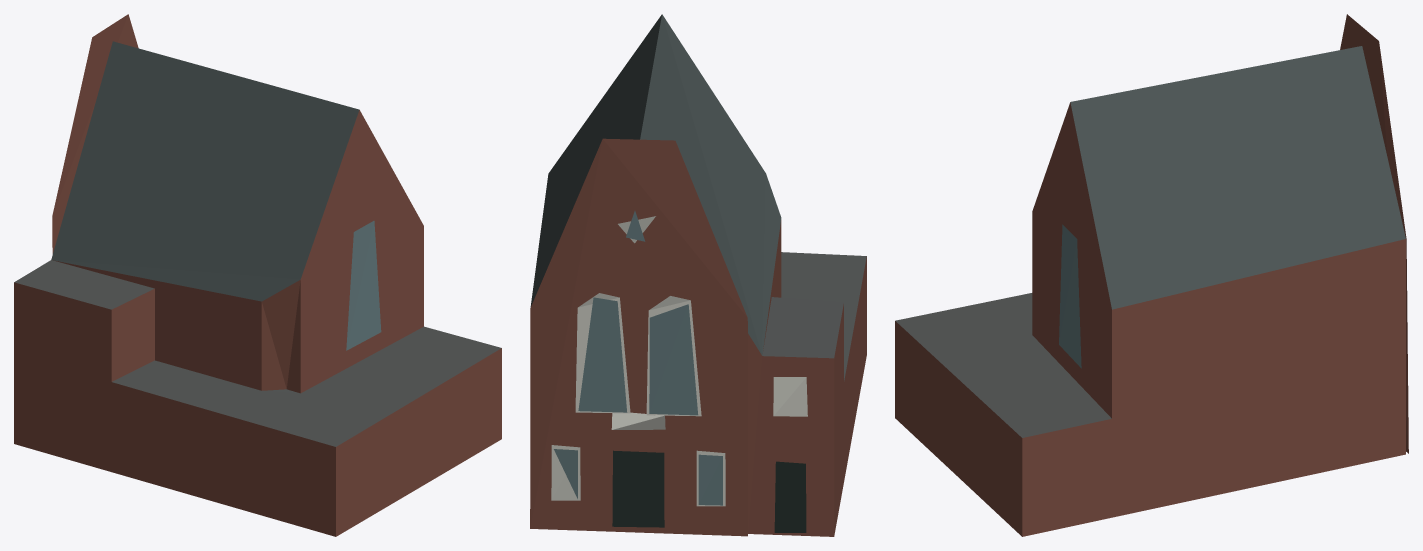
Rendered from gerard-dou-synagogue.lod2.glb.
3 views of the same model, side by side, from view 1: azimuth 30°, elevation 25°; view 2: azimuth 150°, elevation 25°; view 3: azimuth 270°, elevation 25° (orthographic). The views are drawn at different scales.
Parts seen in each view (by area): view 1: lod2; view 2: lod2; view 3: lod2.
Part boxes in pixels (left/top/right/bottom): lod2: left=14, top=14, right=501, bottom=536; lod2: left=530, top=14, right=866, bottom=536; lod2: left=895, top=14, right=1408, bottom=536.
Bounding box in the file's own units: 18.57 × 17.02 × 20.56.
